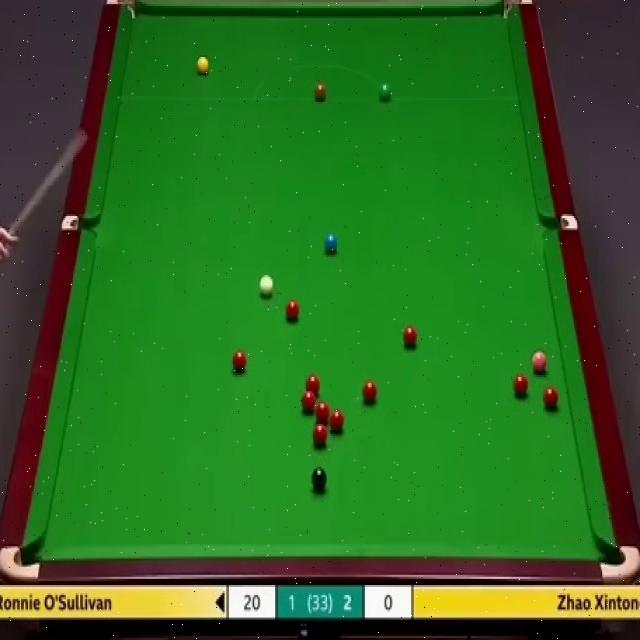black-ball: (311, 467, 327, 492)
blue-ball: (323, 231, 339, 253)
brown-ball: (314, 81, 326, 102)
green-ball: (379, 84, 391, 100)
pink-ball: (532, 348, 548, 374)
red-ball: (231, 348, 248, 376), (514, 373, 531, 398), (363, 378, 379, 403), (330, 410, 346, 435), (284, 300, 300, 322), (544, 387, 559, 409), (313, 424, 327, 447), (403, 325, 416, 349), (315, 404, 332, 422), (304, 374, 321, 391), (301, 390, 316, 406)
white-ball: (258, 274, 274, 298)
yellow-ball: (197, 57, 210, 77)
